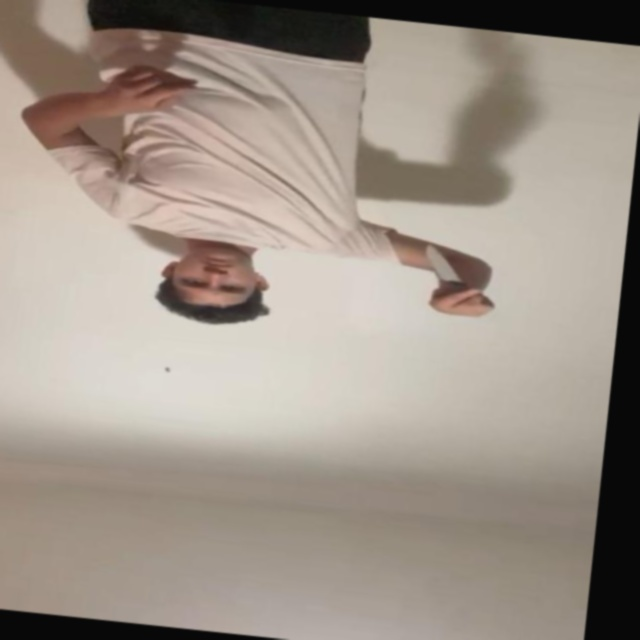Sharp-Object: (417, 245, 469, 283)
